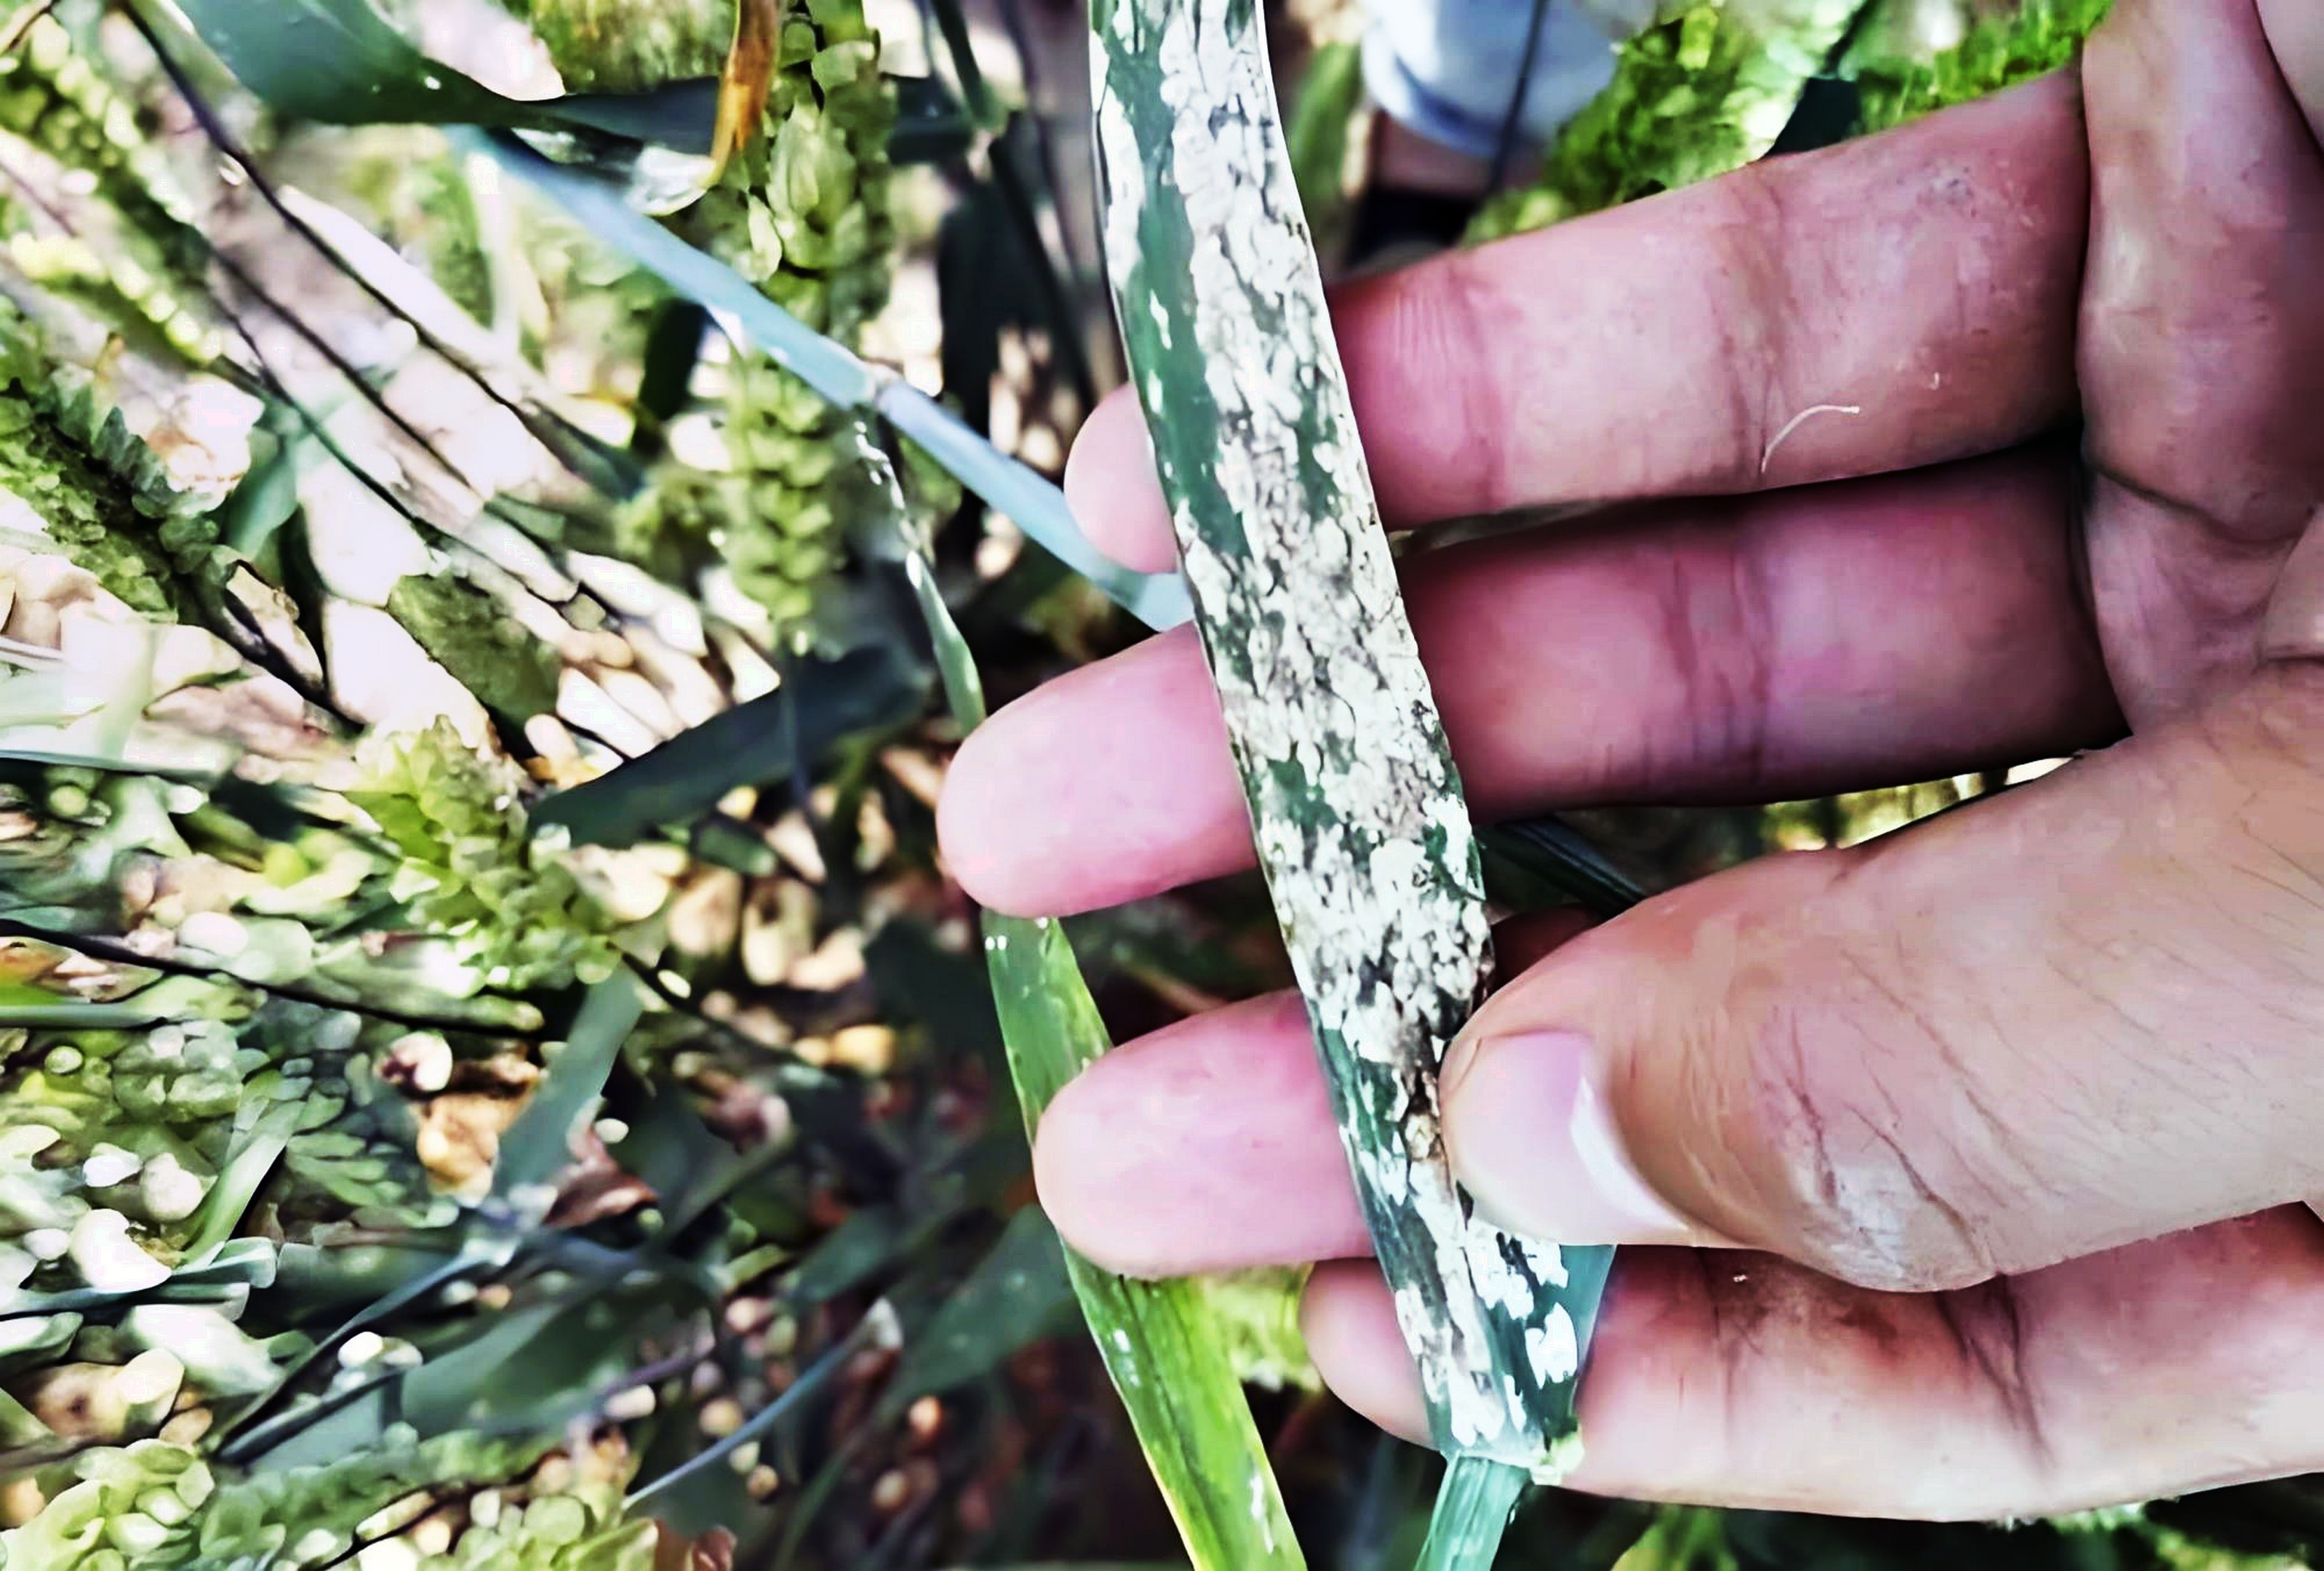Powdery Mildew: (1101, 63, 1521, 1073)
